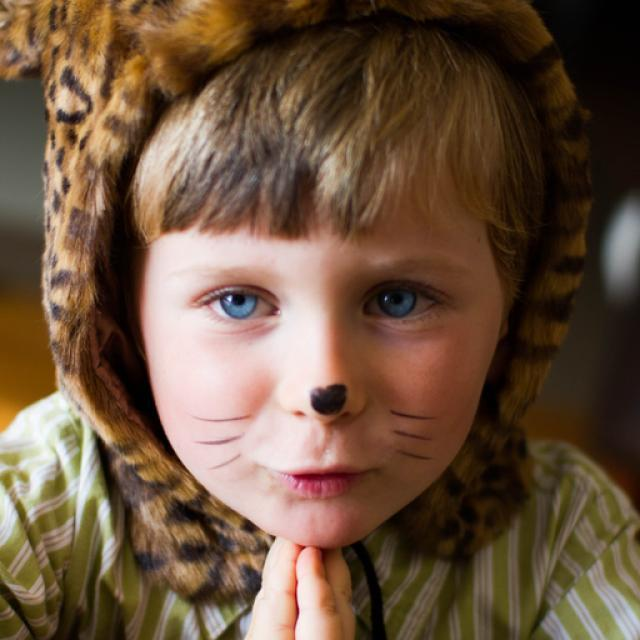sad: (140, 117, 500, 545)
